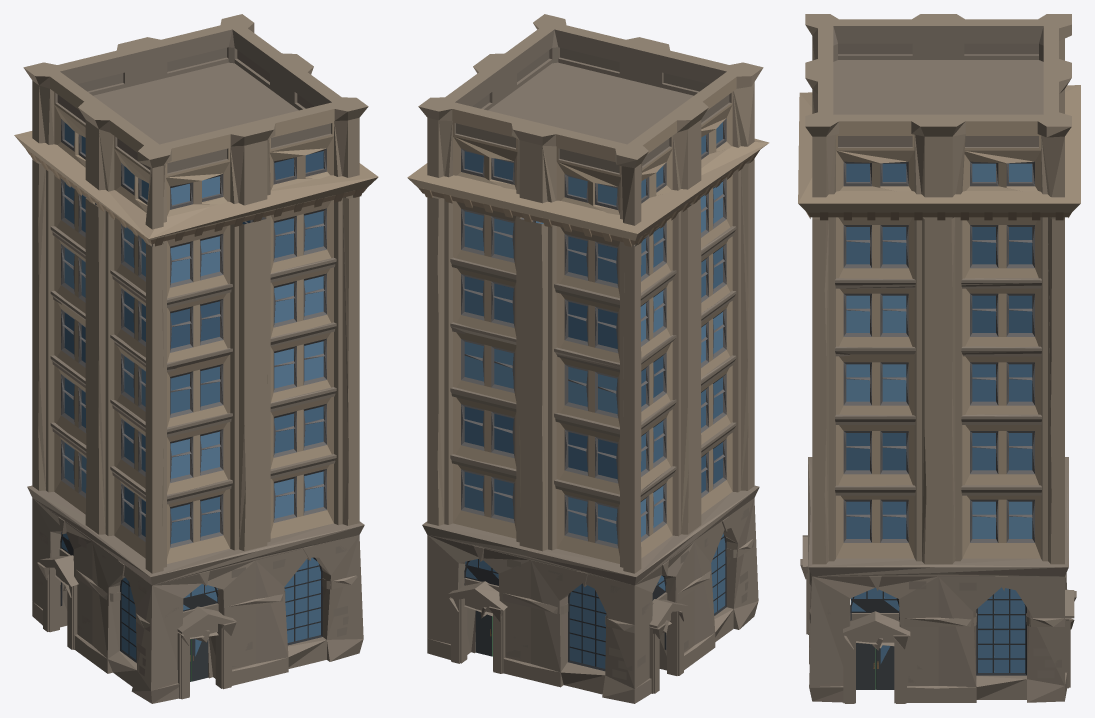
The model's file is sc-office-lod1.glb.
3 views of the same model, side by side, from view 1: azimuth 30°, elevation 25°; view 2: azimuth 150°, elevation 25°; view 3: azimuth 270°, elevation 25° (orthographic). The views are drawn at different scales.
Parts seen in each view (by area): view 1: SM_Bld_OfficeOld_Small_01; view 2: SM_Bld_OfficeOld_Small_01; view 3: SM_Bld_OfficeOld_Small_01.
Part boxes in pixels (x1=…): SM_Bld_OfficeOld_Small_01: x1=14, y1=14, x2=378, y2=703; SM_Bld_OfficeOld_Small_01: x1=407, y1=14, x2=769, y2=703; SM_Bld_OfficeOld_Small_01: x1=798, y1=14, x2=1080, y2=703.
Bounding box in the file's own units: 16.74 × 38 × 16.86.
Materials: 1 (1 with a texture image).
